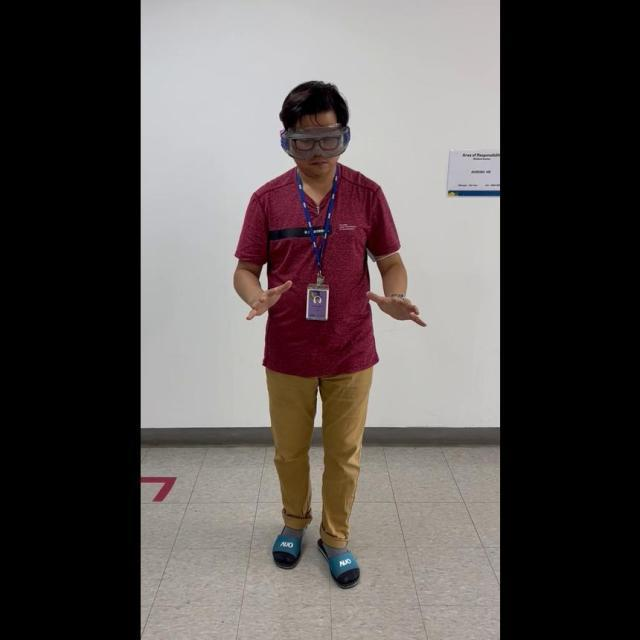bare_hand: (365, 286, 426, 325), (243, 278, 290, 321)
